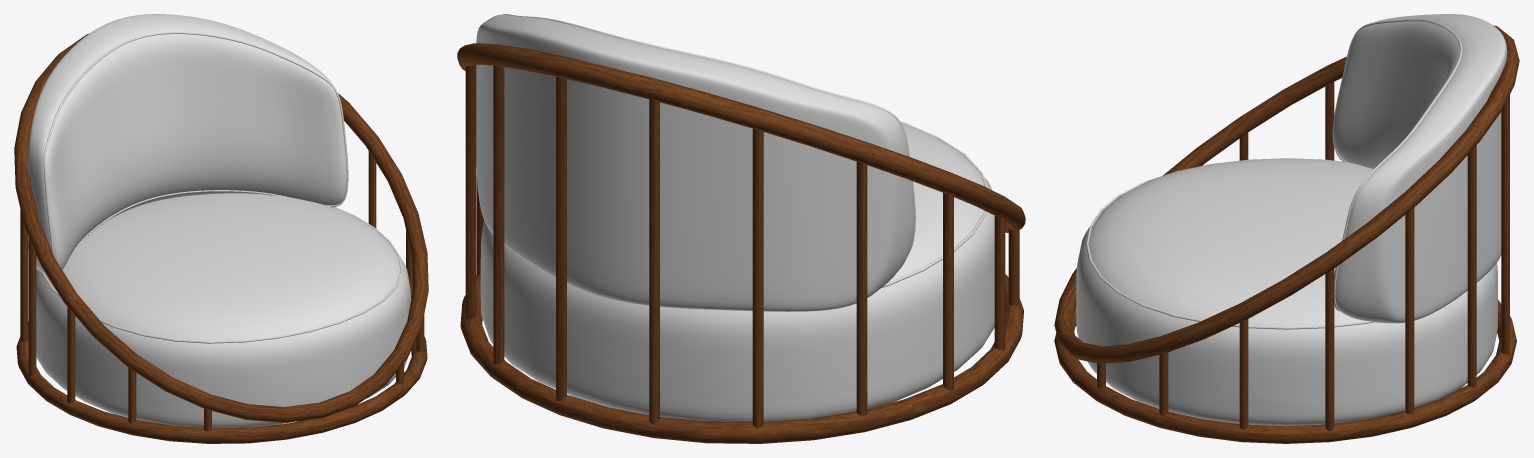
The model's file is koltuk.glb.
3 views of the same model, side by side, from view 1: azimuth 30°, elevation 25°; view 2: azimuth 150°, elevation 25°; view 3: azimuth 270°, elevation 25° (orthographic). The views are drawn at different scales.
Visible parts, largest first — view 1: Seat_fabric_0, Frame_wood_0; view 2: Seat_fabric_0, Frame_wood_0; view 3: Seat_fabric_0, Frame_wood_0.
Part boxes in pixels (x1,y1,x2,y2): Seat_fabric_0: (27,14,411,428); Frame_wood_0: (14,33,428,443); Seat_fabric_0: (476,14,994,422); Frame_wood_0: (457,43,1025,443); Seat_fabric_0: (1076,14,1507,426); Frame_wood_0: (1054,25,1519,443).
Bounding box in the file's own units: 1.05 × 0.7572 × 1.05.
2 materials, 1 textured.
